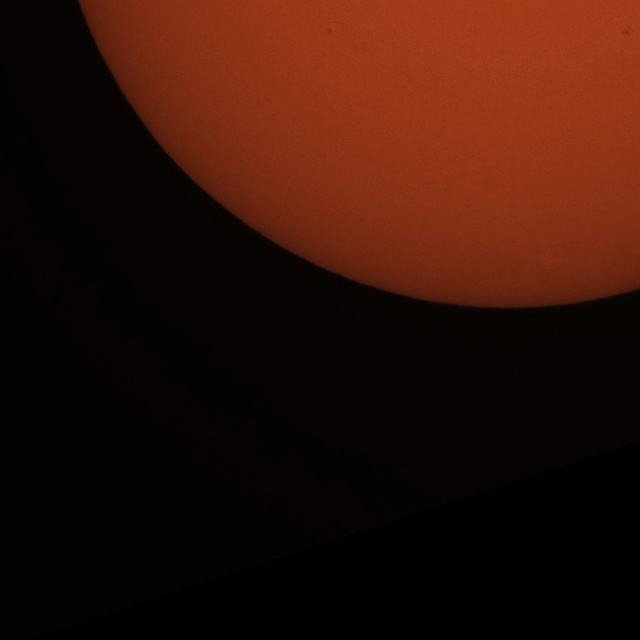sunspot: (326, 27, 334, 37)
